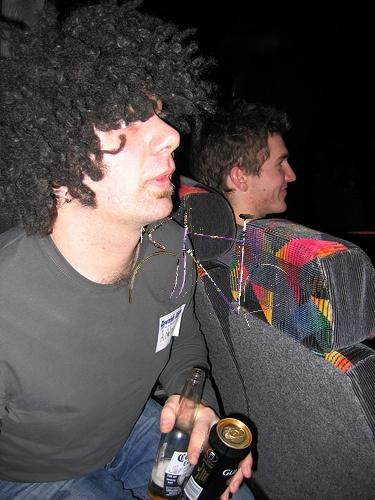tampered: (130, 207, 302, 336)
